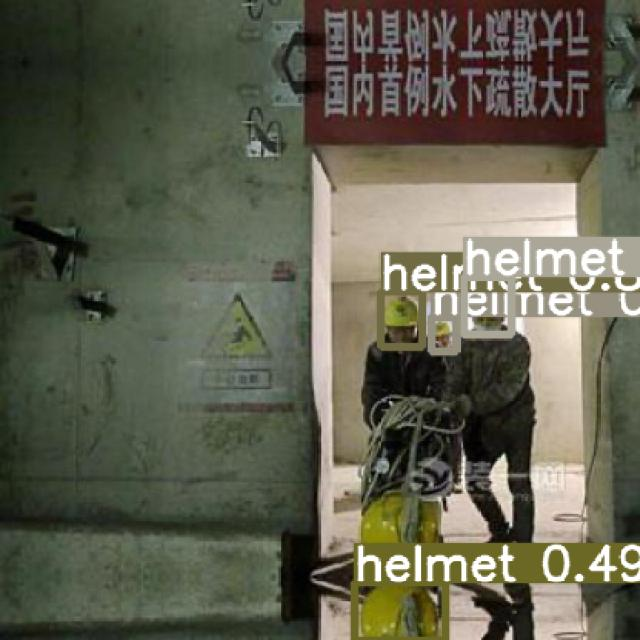helmet: (353, 581, 444, 640), (463, 275, 511, 334), (380, 291, 422, 346), (431, 315, 455, 351)
